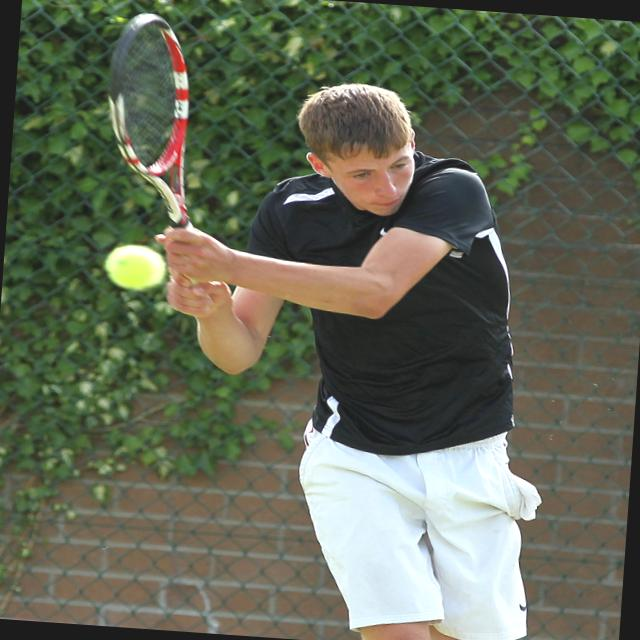Tennis Ball: (101, 241, 164, 292)
